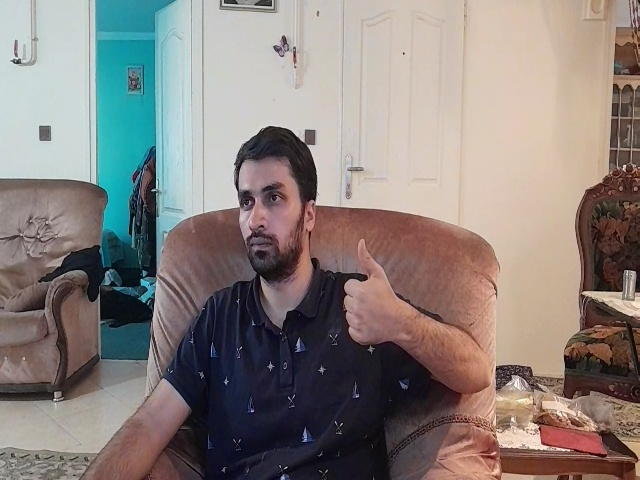ThumbsUp: (341, 235, 400, 349)
